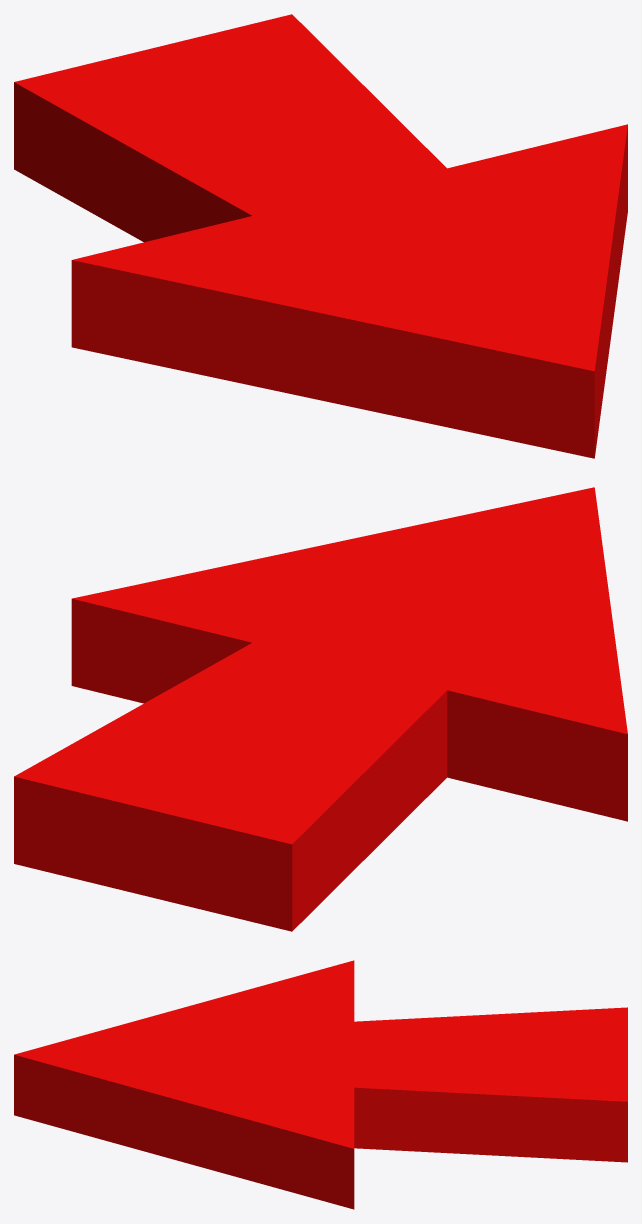
The model's file is やじるし.glb.
The picture shows the model from 3 angles, top to bottom: view 1: azimuth 30°, elevation 25°; view 2: azimuth 150°, elevation 25°; view 3: azimuth 270°, elevation 25°; orthographic projection. The views are drawn at different scales.
Parts seen in each view (by area): view 1: node_id29; view 2: node_id29; view 3: node_id29.
Boxes of the visible parts, x1,y1,x2,y2 form: node_id29: [14, 14, 627, 458]; node_id29: [14, 487, 627, 931]; node_id29: [14, 960, 627, 1209].
Size of the model in its own units: 0.512 by 0.0768 by 0.704.
1 material, 1 textured.
